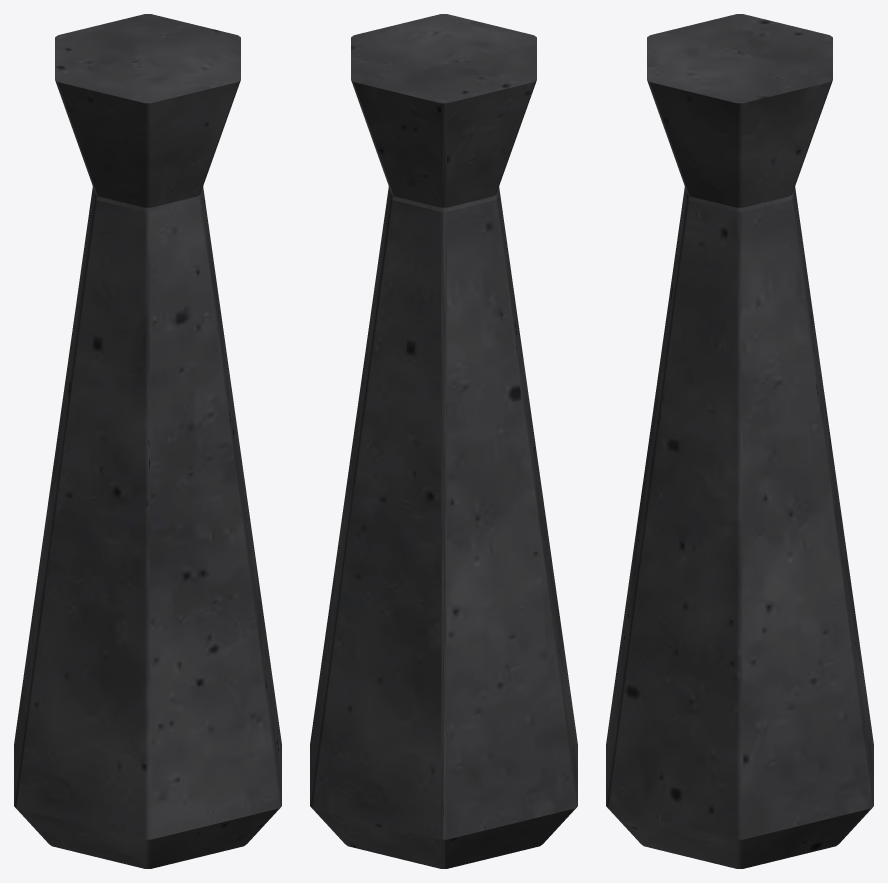
Rendered from hexalith_black_queen.glb.
3 views of the same model, side by side, from view 1: azimuth 30°, elevation 25°; view 2: azimuth 150°, elevation 25°; view 3: azimuth 270°, elevation 25° (orthographic).
Parts seen in each view (by area): view 1: HEXALITH_black_queen; view 2: HEXALITH_black_queen; view 3: HEXALITH_black_queen.
Boxes of the visible parts, x1=… form: HEXALITH_black_queen: x1=14, y1=14, x2=281, y2=868; HEXALITH_black_queen: x1=310, y1=14, x2=577, y2=868; HEXALITH_black_queen: x1=606, y1=14, x2=873, y2=868.
Size of the model in its own units: 0.0307 by 0.0844 by 0.0268.
1 material, 1 textured.
